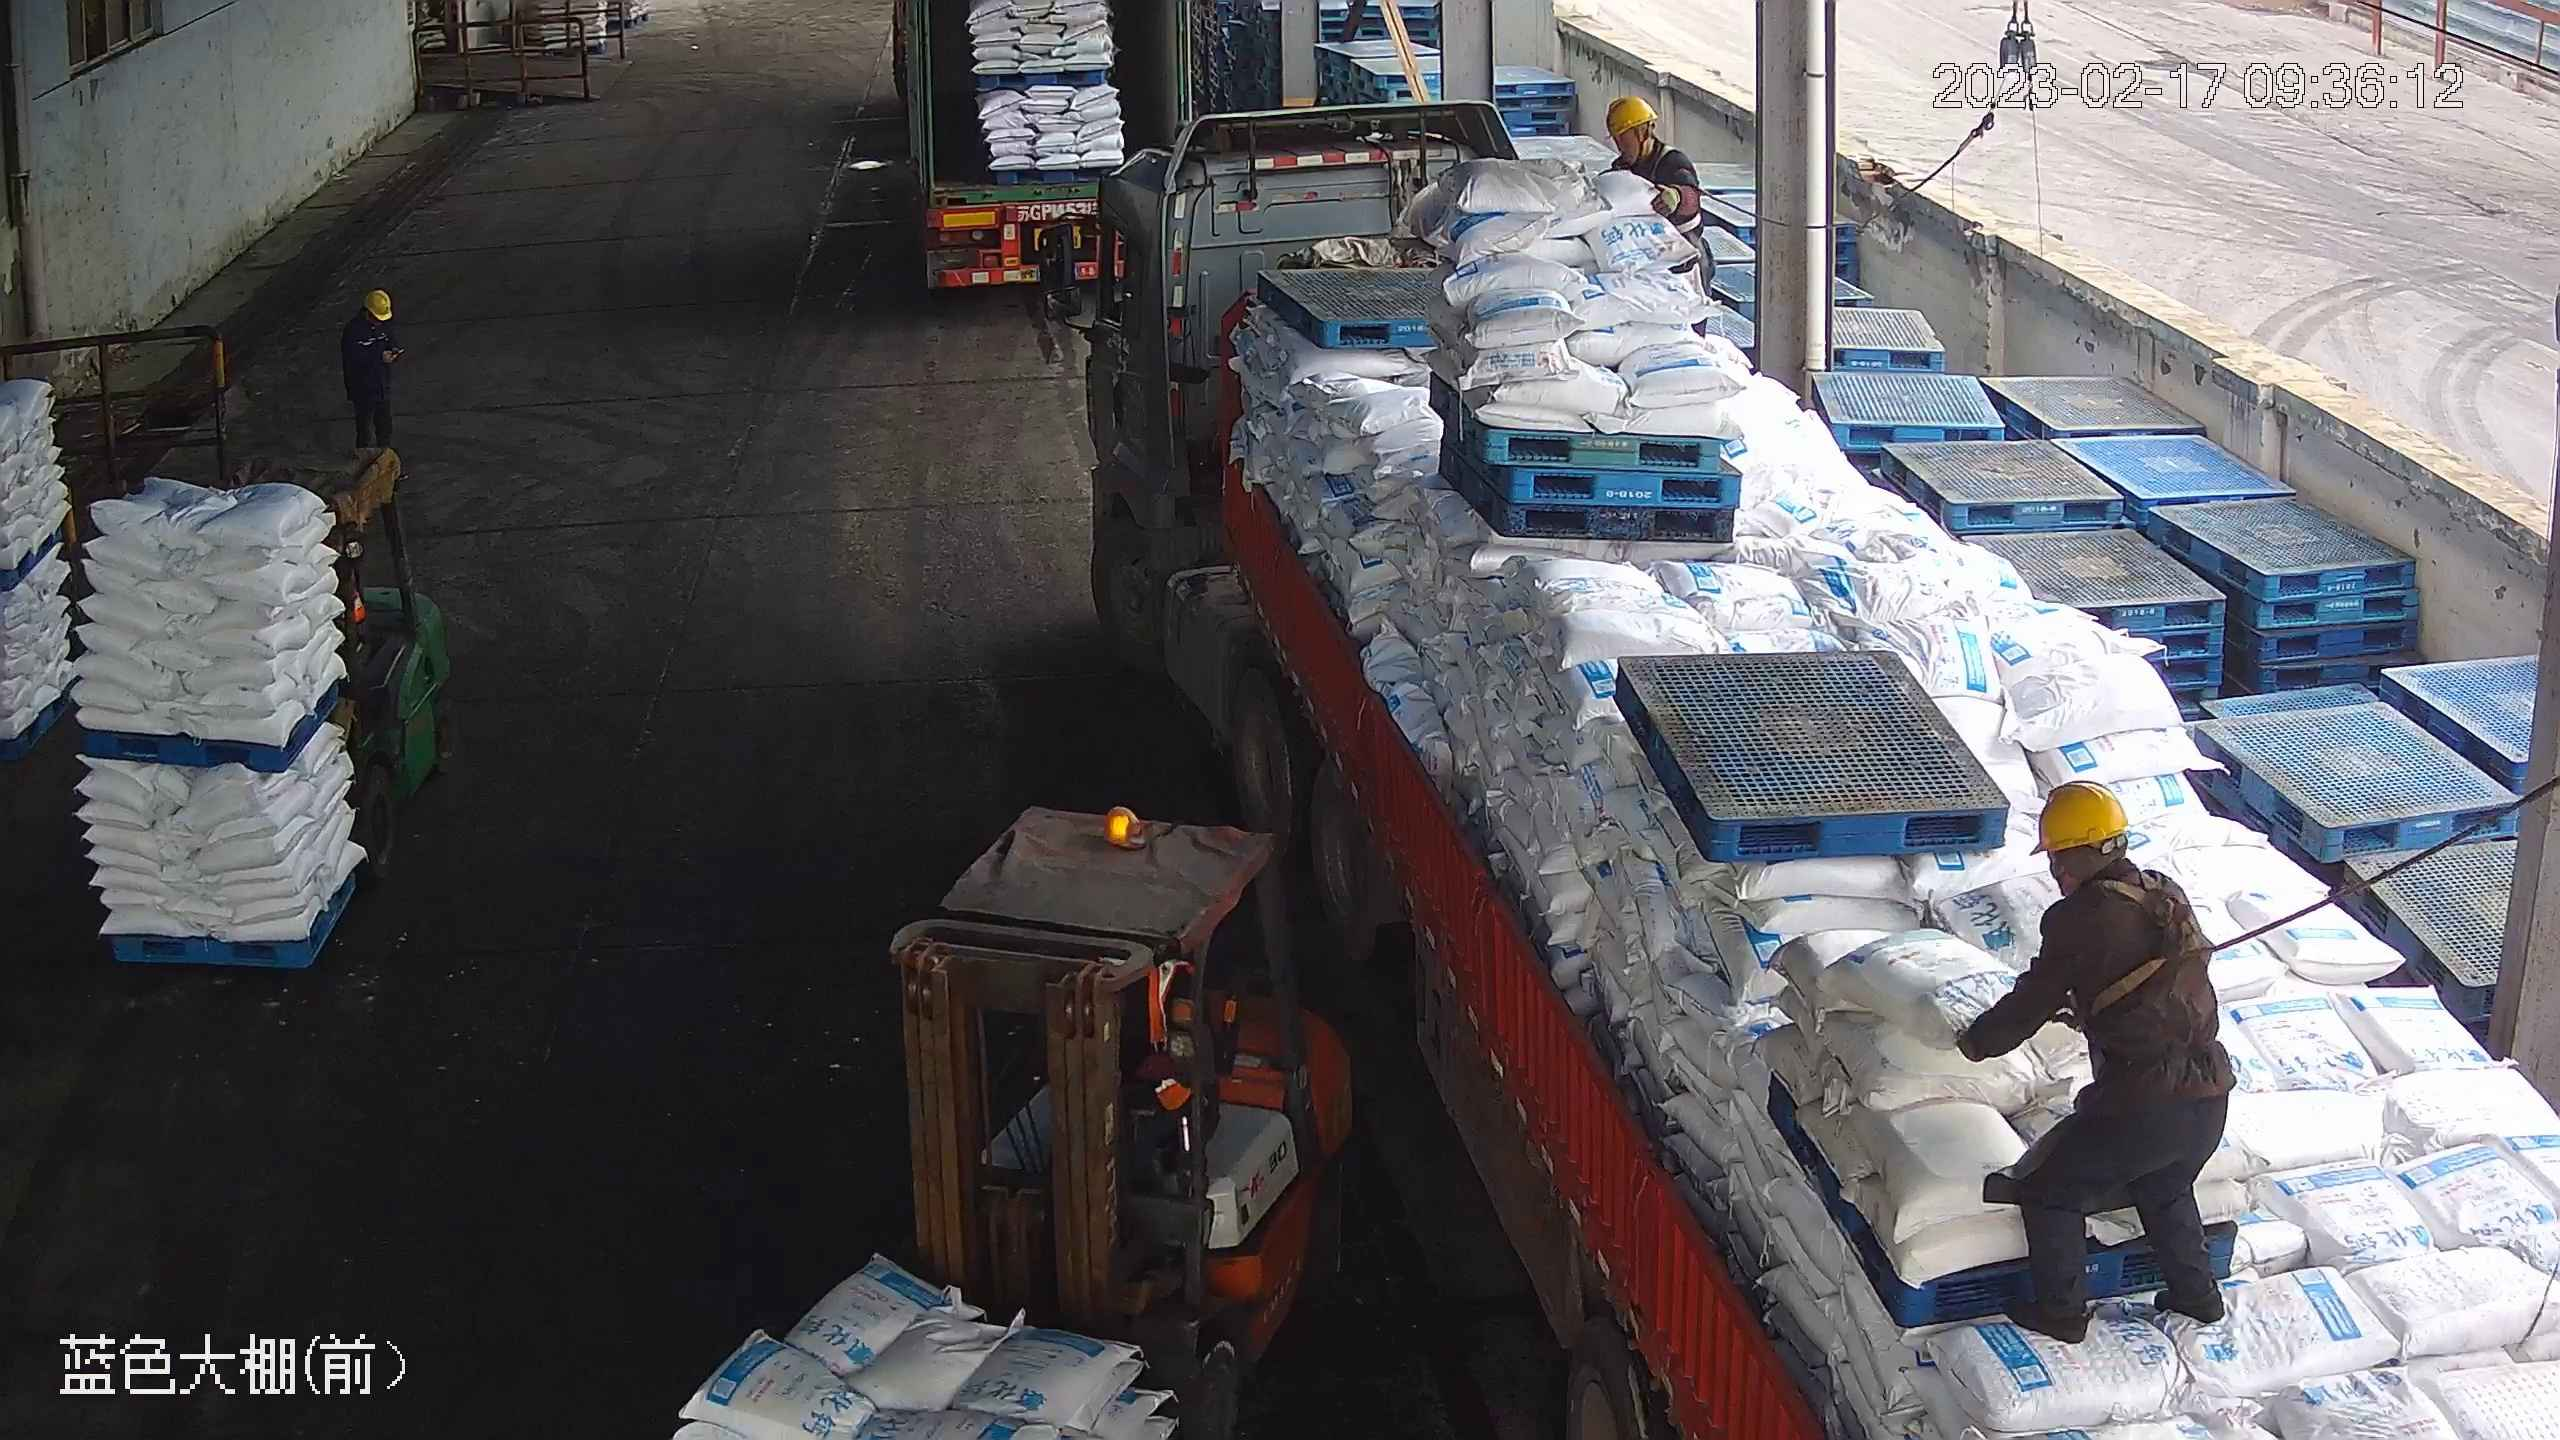belt: (2069, 872, 2214, 1013), (1638, 145, 1675, 176)
head: (2018, 776, 2203, 960), (1602, 91, 1694, 171), (343, 288, 395, 347)
helmet: (2025, 772, 2139, 852), (1601, 87, 1659, 133), (362, 287, 391, 315)
people: (1956, 776, 2241, 1346), (338, 289, 405, 453)
truck: (1041, 90, 2560, 1440), (879, 4, 1222, 304)
